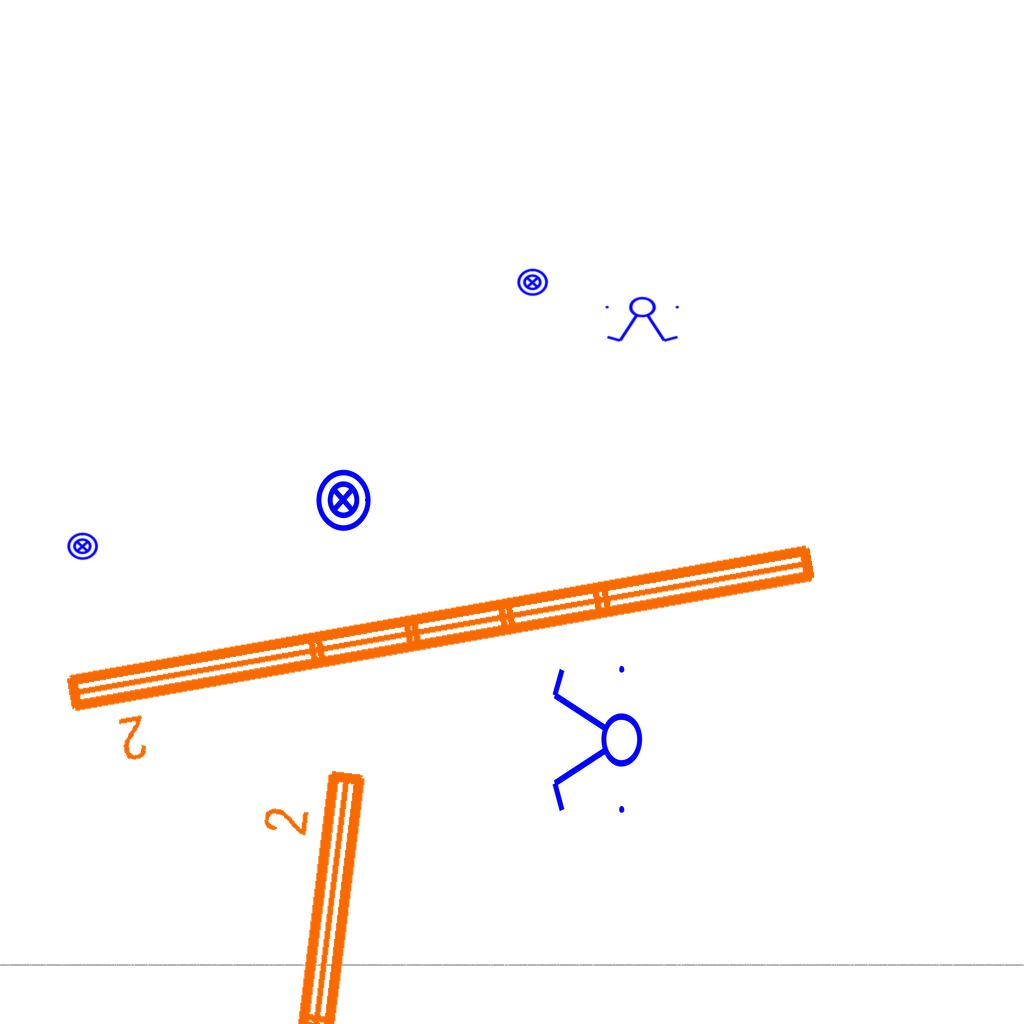Ambulanz_Pendelleuchte_LED: (55, 530, 837, 776), (173, 754, 379, 1024)
Serienschalter: (548, 657, 644, 825), (601, 296, 685, 344)
Taster_beleuchtet: (310, 467, 376, 533), (516, 266, 549, 299), (66, 530, 99, 563)
